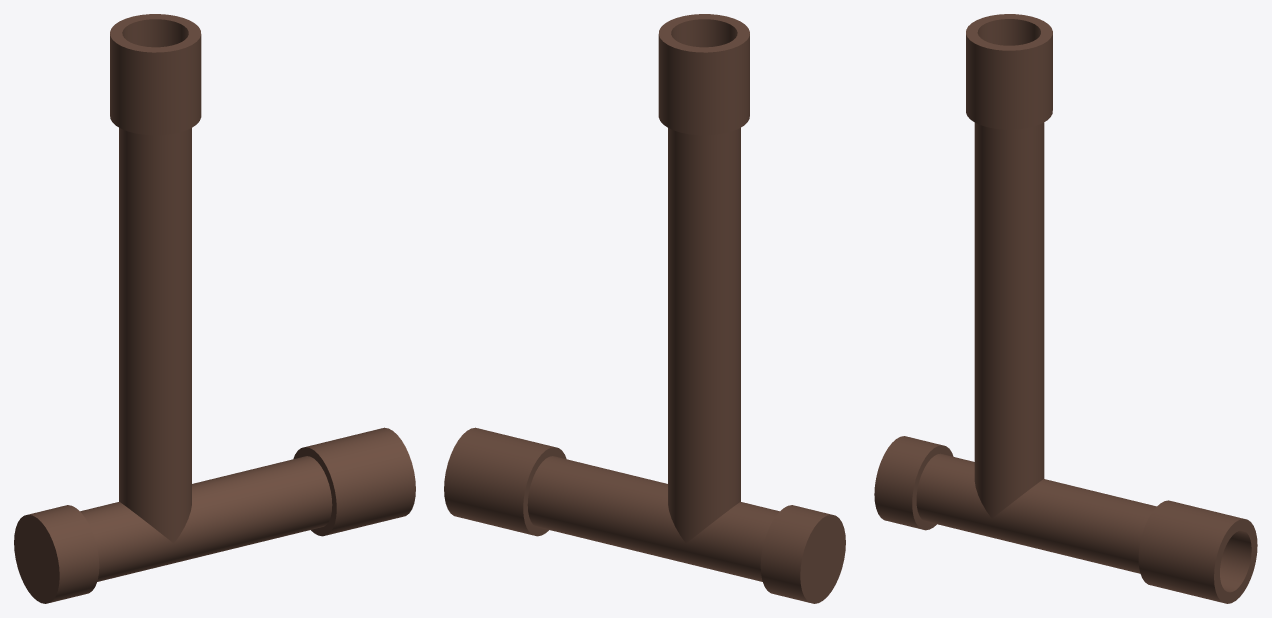
File: GasRing.fbx
The picture shows the model from 3 angles, left to right: view 1: azimuth 30°, elevation 25°; view 2: azimuth 150°, elevation 25°; view 3: azimuth 330°, elevation 25°; orthographic projection. The views are drawn at different scales.
Parts seen in each view (by area): view 1: GasRing TypeL, GasRing TypeI; view 2: GasRing TypeL, GasRing TypeI; view 3: GasRing TypeL, GasRing TypeI.
Boxes of the visible parts, left/top/right/bottom form: GasRing TypeL: left=14, top=323, right=415, bottom=603; GasRing TypeI: left=110, top=14, right=201, bottom=338; GasRing TypeL: left=444, top=323, right=845, bottom=603; GasRing TypeI: left=658, top=14, right=749, bottom=338; GasRing TypeL: left=874, top=308, right=1257, bottom=603; GasRing TypeI: left=966, top=14, right=1052, bottom=323.
Bounding box in the file's own units: 2 × 9 × 13.
